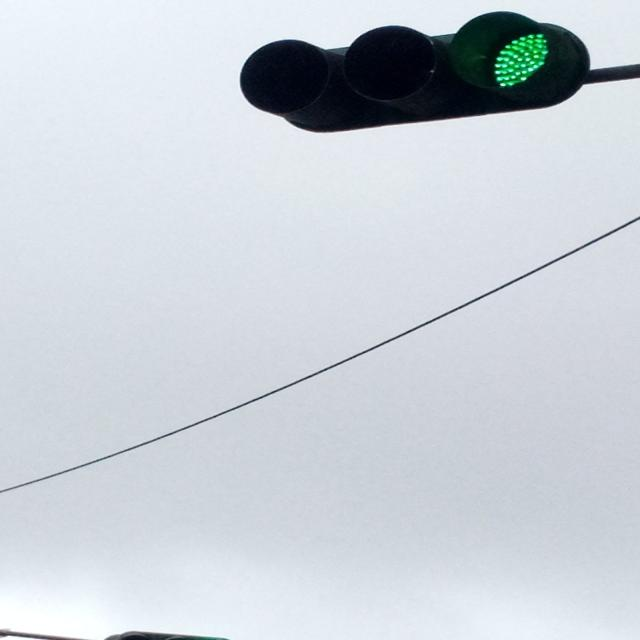green light: (235, 8, 593, 138)
